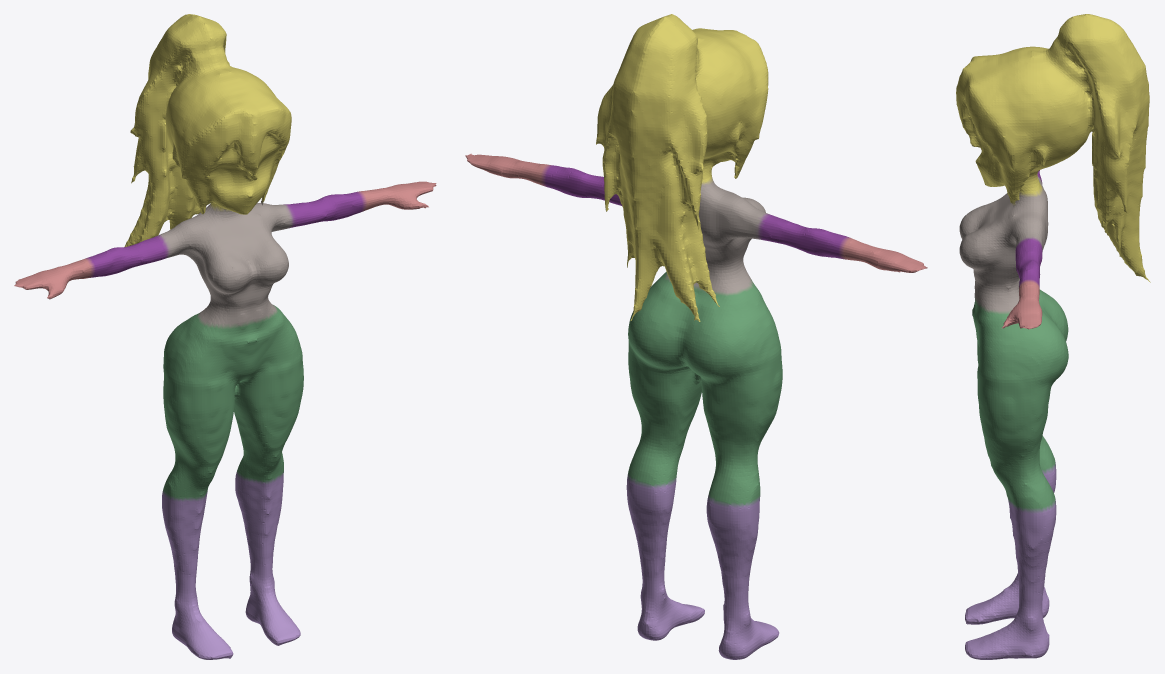
Rendered from character_segmented_colored.glb.
3 renders of one model, left to right at view 1: azimuth 30°, elevation 25°; view 2: azimuth 150°, elevation 25°; view 3: azimuth 270°, elevation 25°, orthographic. The views are drawn at different scales.
Visible parts, largest first — view 1: world; view 2: world; view 3: world.
Part boxes in pixels (left/top/right/bottom): world: left=14, top=14, right=436, bottom=659; world: left=465, top=14, right=927, bottom=659; world: left=956, top=14, right=1150, bottom=659.
Size of the model in its own units: 1.46 by 1.96 by 0.5555.
